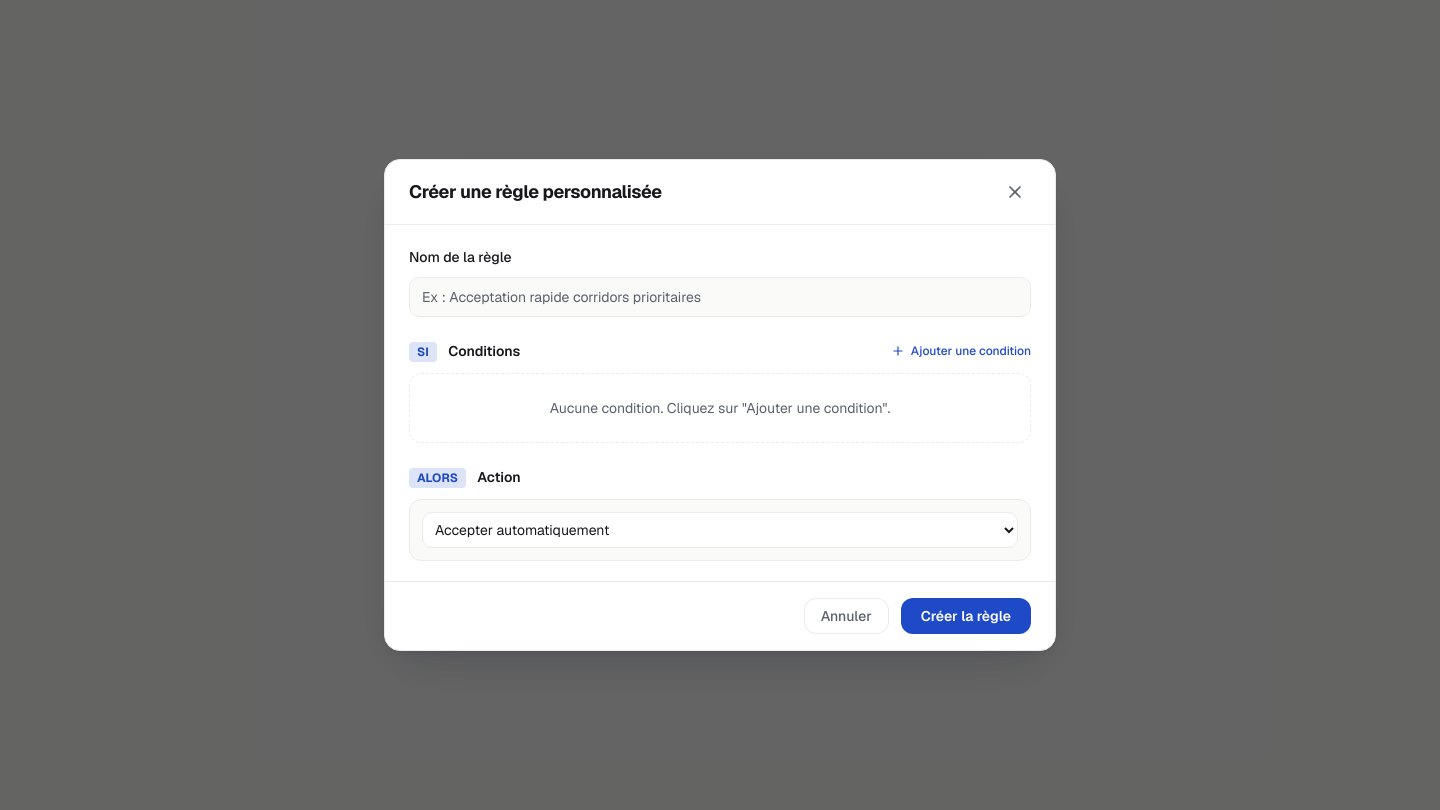
Test: AutomationRuleModal › shows action-message-input when action type is auto_reject
Select "Refuser automatiquement" in the dropdown with test id "action-type-select" at (720, 530), box [422,512,1018,548]
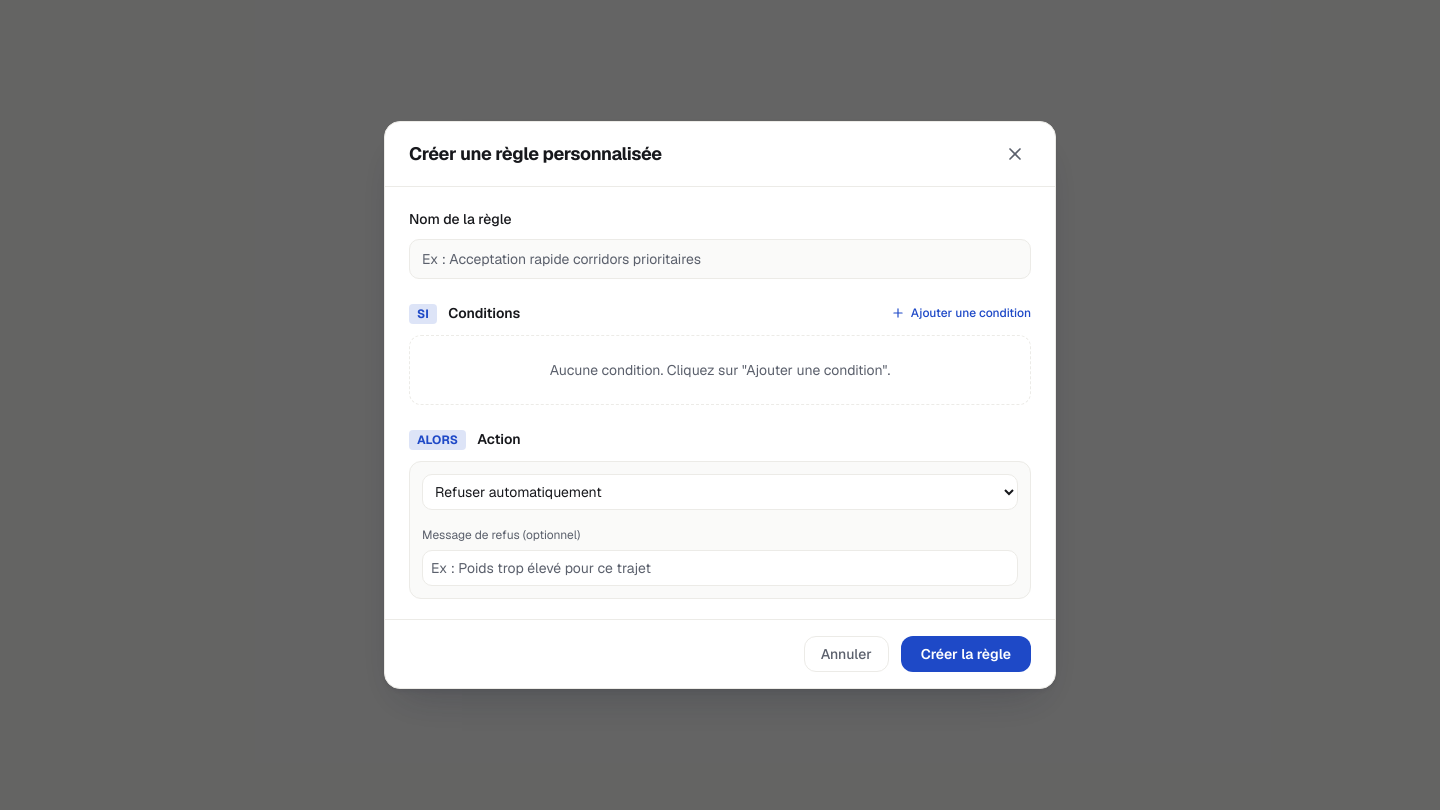
Expected: the field with test id "action-message-input" is shown, [422,550,1018,586]
